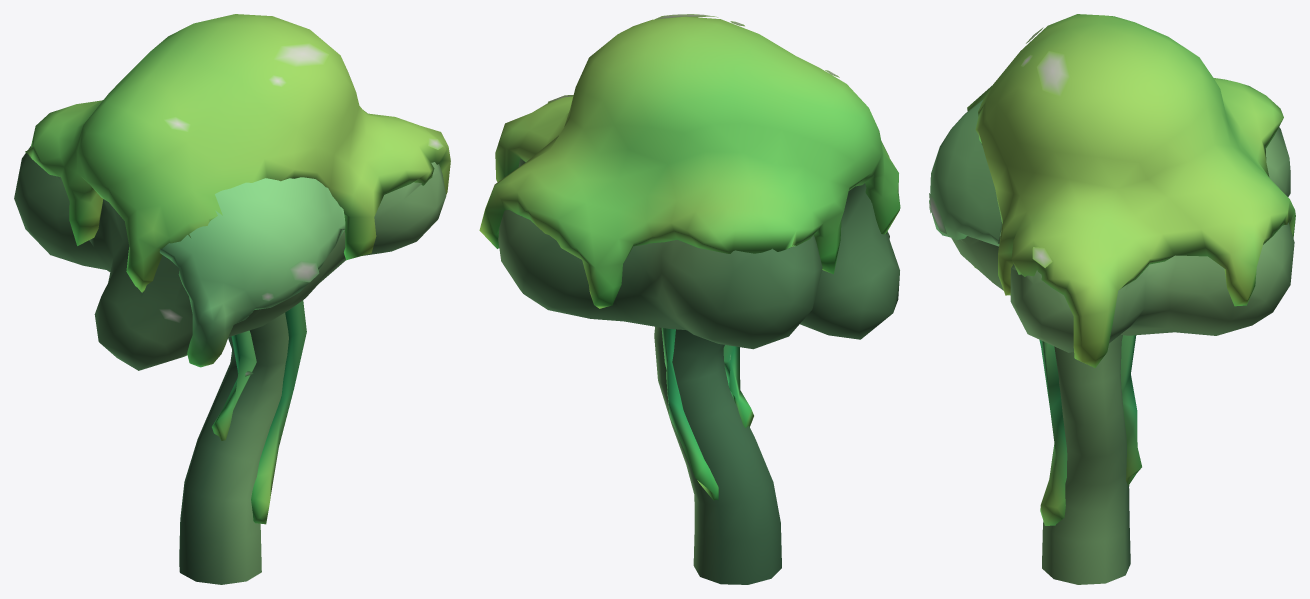
File: Gooey_Tree_Remake.glb
3 views of the same model, side by side, from view 1: azimuth 30°, elevation 25°; view 2: azimuth 150°, elevation 25°; view 3: azimuth 270°, elevation 25° (orthographic). The views are drawn at different scales.
Visible parts, largest first — view 1: Gooey_Remake; view 2: Gooey_Remake; view 3: Gooey_Remake.
Part boxes in pixels (<box>): Gooey_Remake: <box>14,14,450,584</box>; Gooey_Remake: <box>479,14,900,584</box>; Gooey_Remake: <box>929,14,1295,584</box>.
Size of the model in its own units: 7.82 by 10.69 by 6.55.
